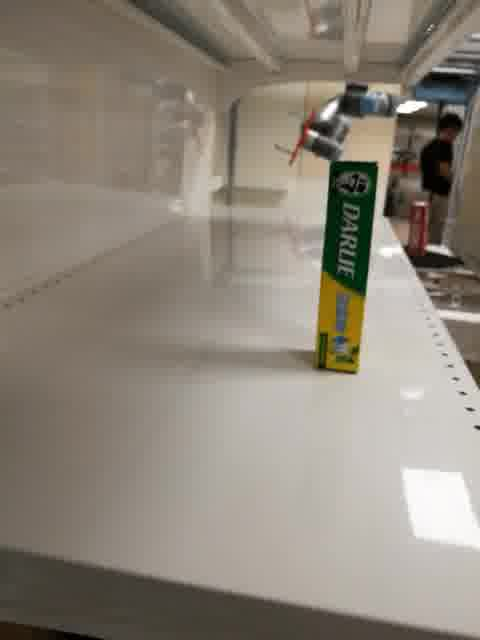toothpaste: (314, 160, 378, 375)
